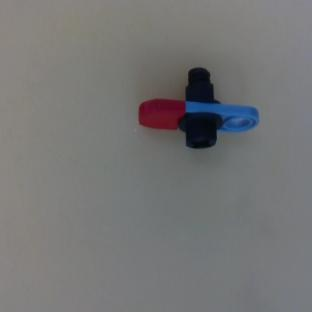part_1_good: (131, 52, 264, 181)
